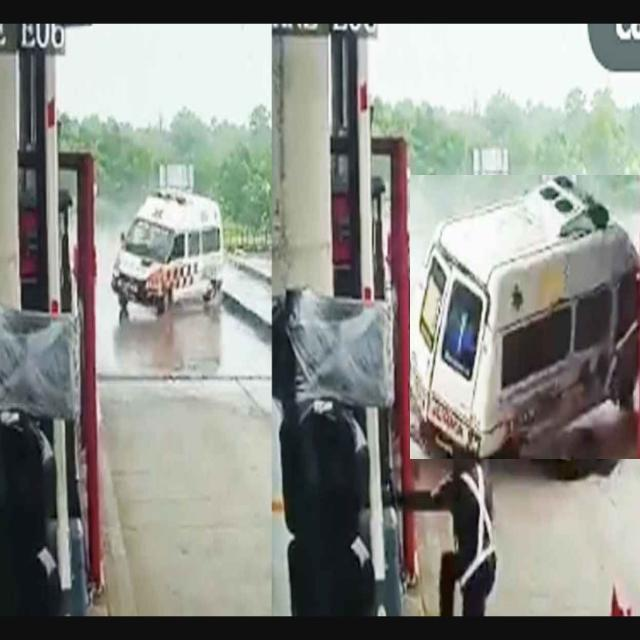accident: (410, 175, 640, 459)
emergency: (111, 189, 224, 319)
